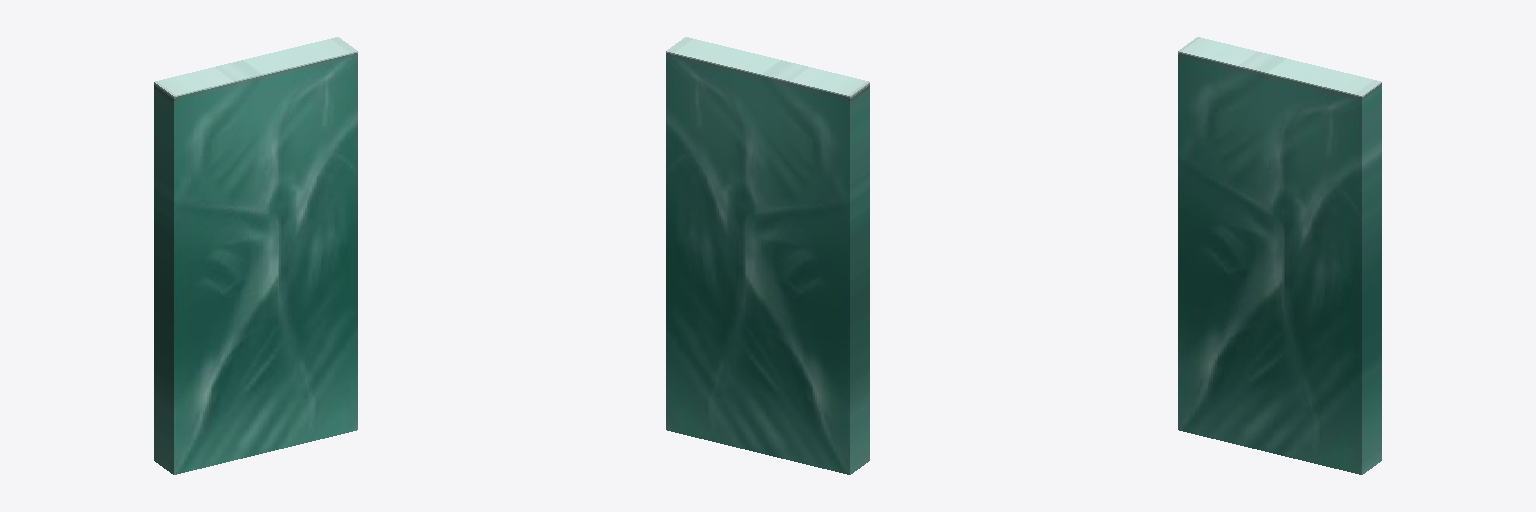
The picture shows the model from 3 angles: view 1: azimuth 30°, elevation 25°; view 2: azimuth 150°, elevation 25°; view 3: azimuth 330°, elevation 25°; orthographic projection.
Parts seen in each view (by area): view 1: mesh01; view 2: mesh01; view 3: mesh01.
Boxes of the visible parts, <box> form: mesh01: <box>154,37,357,474</box>; mesh01: <box>666,37,869,474</box>; mesh01: <box>1178,37,1381,474</box>.
Bounding box in the file's own units: 13.36 × 26.24 × 2.49.
1 materials, 1 textured.